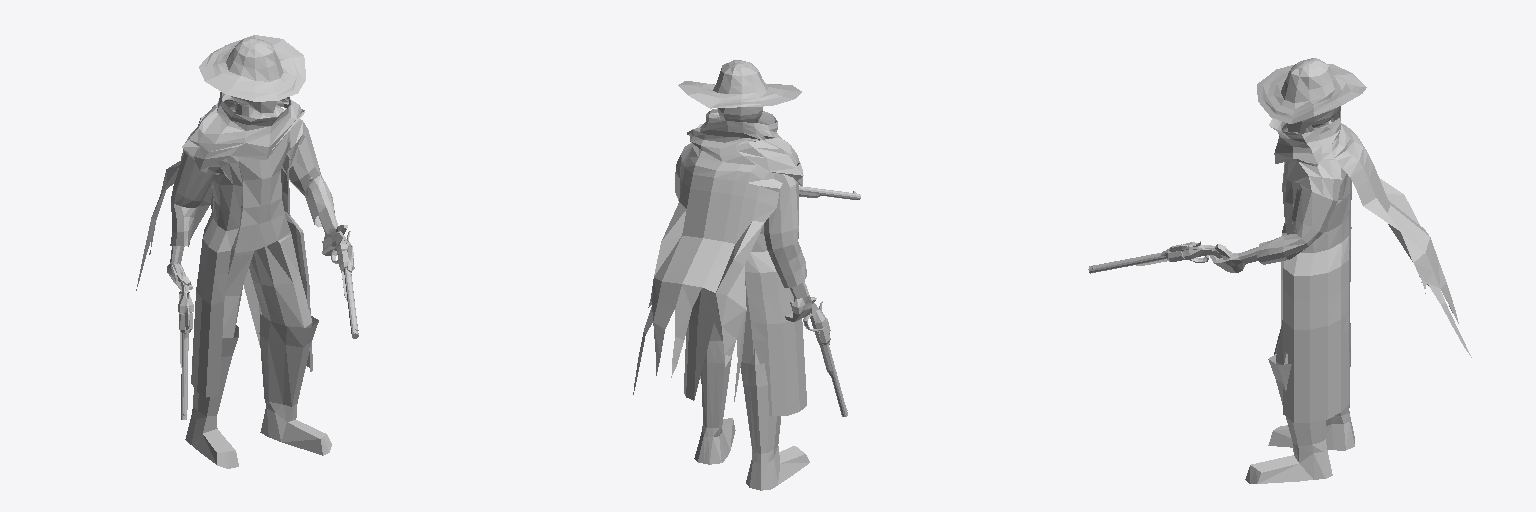
File: hatTip_6.obj
3 renders of one model, left to right at view 1: azimuth 30°, elevation 25°; view 2: azimuth 150°, elevation 25°; view 3: azimuth 270°, elevation 25°, orthographic.
Parts seen in each view (by area): view 1: Gunslinger_Clothing_Cube.004, Default_Body_Cube.003, Boots_Cube.008, Shemagh_Cube.009, Hat_Cube.005, Revolver_Model_Cube.006, Revolver_Model.001_Cube.007; view 2: Shemagh_Cube.009, Gunslinger_Clothing_Cube.004, Boots_Cube.008, Hat_Cube.005, Default_Body_Cube.003, Revolver_Model.001_Cube.007; view 3: Gunslinger_Clothing_Cube.004, Shemagh_Cube.009, Boots_Cube.008, Hat_Cube.005, Default_Body_Cube.003, Revolver_Model_Cube.006.
Part boxes in pixels (x1,y1,x2,y2): Gunslinger_Clothing_Cube.004: (170, 105, 334, 397); Default_Body_Cube.003: (167, 96, 347, 338); Boots_Cube.008: (185, 312, 331, 468); Shemagh_Cube.009: (136, 92, 304, 290); Hat_Cube.005: (199, 35, 305, 101); Revolver_Model_Cube.006: (322, 231, 358, 338); Revolver_Model.001_Cube.007: (178, 265, 193, 419); Shemagh_Cube.009: (633, 108, 803, 401); Gunslinger_Clothing_Cube.004: (675, 142, 806, 416); Boots_Cube.008: (694, 341, 809, 490); Hat_Cube.005: (678, 60, 801, 108); Default_Body_Cube.003: (710, 107, 816, 364); Revolver_Model.001_Cube.007: (790, 301, 847, 416); Gunslinger_Clothing_Cube.004: (1256, 120, 1351, 422); Shemagh_Cube.009: (1269, 107, 1471, 357); Boots_Cube.008: (1245, 323, 1354, 483); Hat_Cube.005: (1257, 58, 1366, 123); Default_Body_Cube.003: (1209, 106, 1340, 364); Revolver_Model_Cube.006: (1088, 241, 1221, 273).
Size of the model in its own units: 2.22 by 5.52 by 4.75.